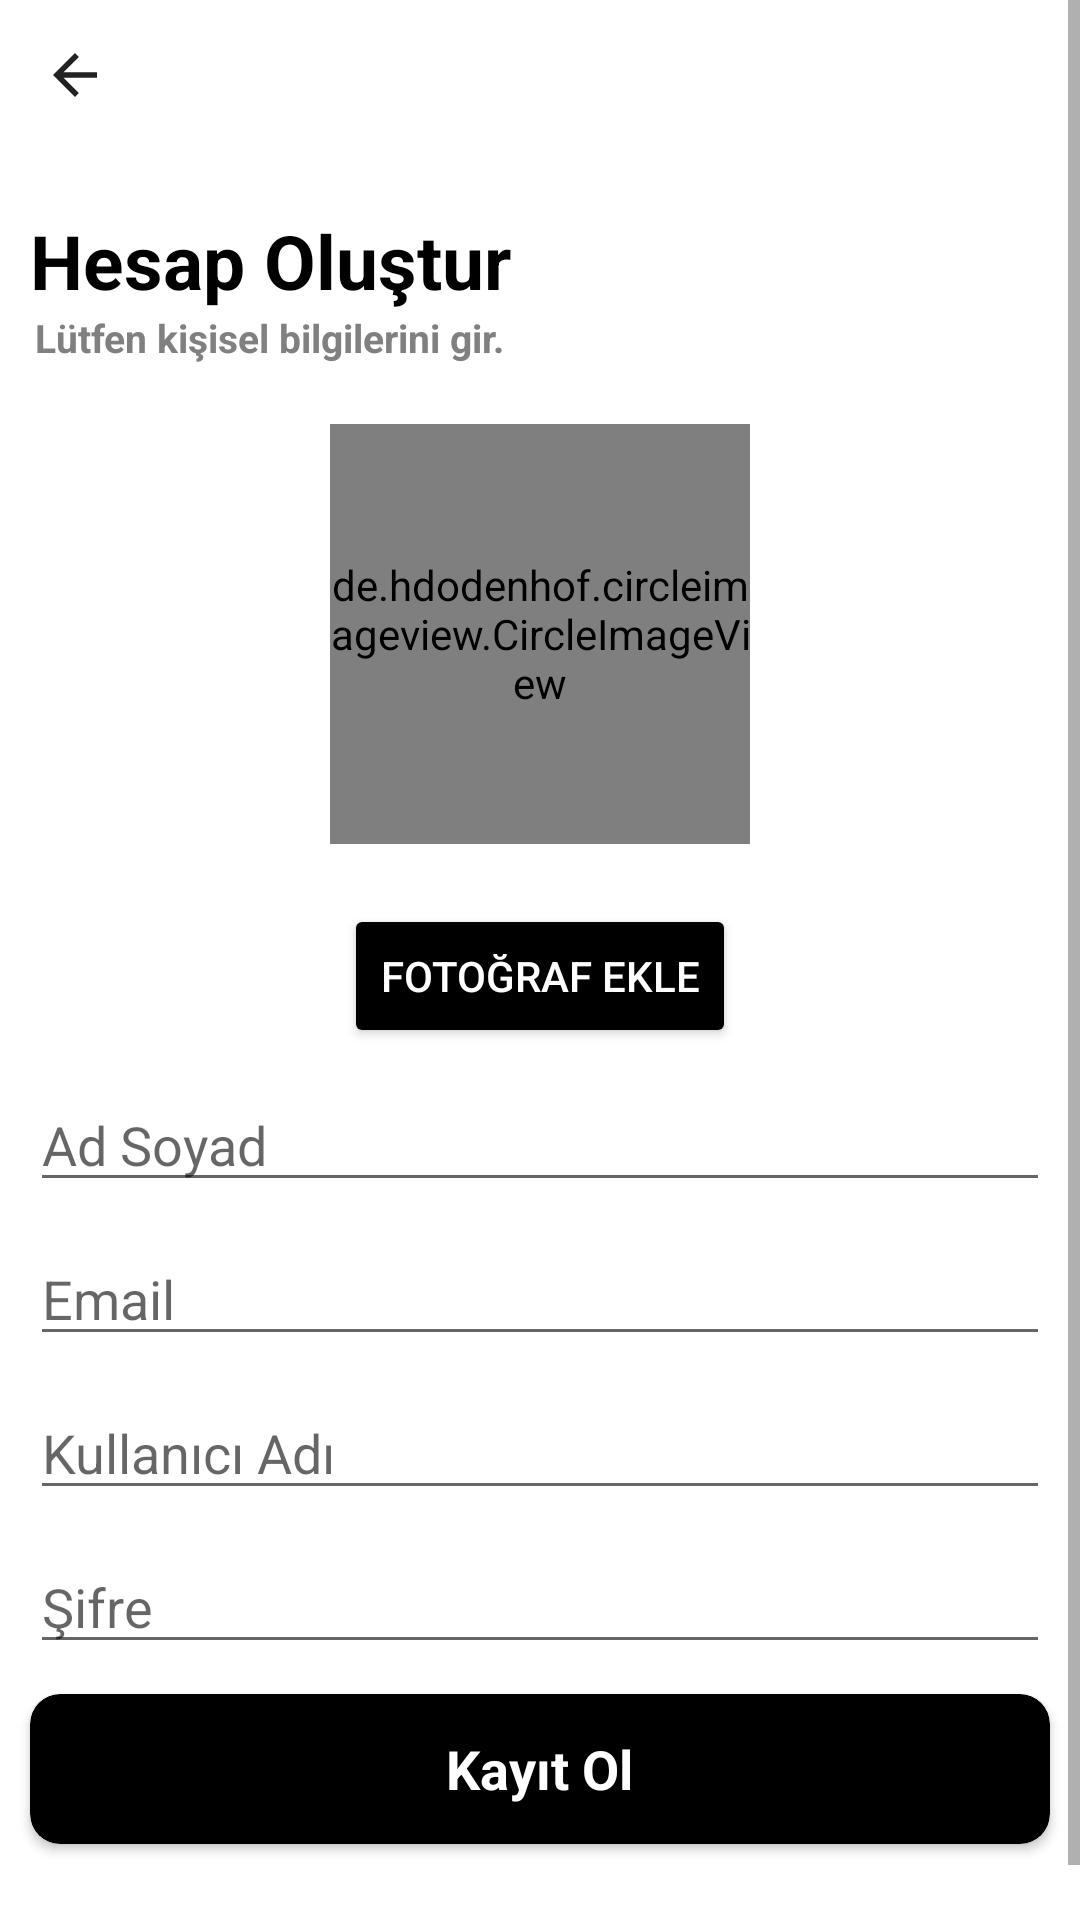

Where icons sit on this 1080 x 1920 app screen, as (x1, y1, x2, y2):
arrow back: (53, 53, 97, 97)
